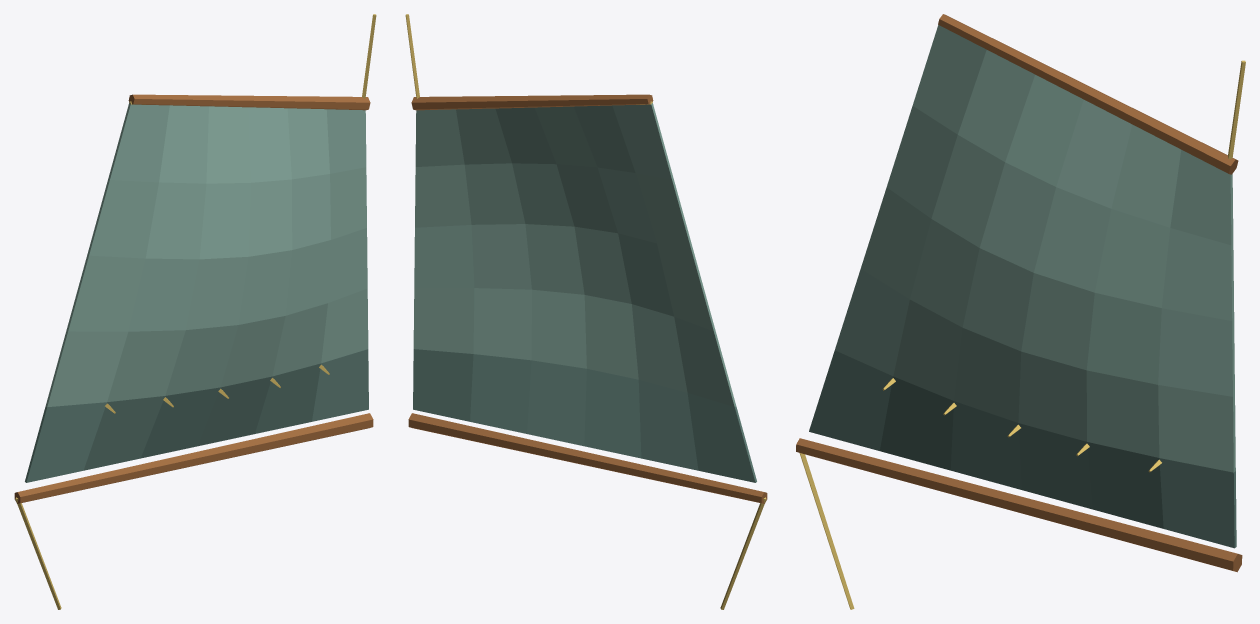
Rendered from ship_sail_raised.glb.
The picture shows the model from 3 angles, left to right: view 1: azimuth 30°, elevation 25°; view 2: azimuth 150°, elevation 25°; view 3: azimuth 330°, elevation 25°; orthographic projection. The views are drawn at different scales.
Visible parts, largest first — view 1: Sail_Canvas_Front, Sail_Canvas_Foot_Front, Sail_Boom.001, Sail_Gaff.001, Sail_Canvas_Back, Sail_Canvas_Foot_Back, Sail_Canvas_Rim_2, Sail_Sheet; view 2: Sail_Canvas_Back, Sail_Canvas_Foot_Back, Sail_Boom.001, Sail_Gaff.001, Sail_Canvas_Foot_Front, Sail_Canvas_Front, Sail_Canvas_Rim_2, Sail_Sheet; view 3: Sail_Canvas_Front, Sail_Canvas_Foot_Front, Sail_Boom.001, Sail_Gaff.001, Sail_Canvas_Back, Sail_Canvas_Foot_Back, Sail_Sheet, Sail_Canvas_Rim_1.
Boxes of the visible parts, bbox=[...] form: Sail_Canvas_Front: bbox=[47, 104, 368, 407]; Sail_Canvas_Foot_Front: bbox=[26, 349, 368, 482]; Sail_Boom.001: bbox=[14, 413, 373, 503]; Sail_Gaff.001: bbox=[128, 94, 370, 110]; Sail_Canvas_Back: bbox=[124, 123, 351, 333]; Sail_Canvas_Foot_Back: bbox=[280, 367, 354, 407]; Sail_Canvas_Rim_2: bbox=[45, 103, 130, 406]; Sail_Sheet: bbox=[15, 497, 61, 609]; Sail_Canvas_Back: bbox=[413, 104, 734, 406]; Sail_Canvas_Foot_Back: bbox=[413, 349, 755, 482]; Sail_Boom.001: bbox=[408, 413, 767, 503]; Sail_Gaff.001: bbox=[411, 94, 653, 110]; Sail_Canvas_Foot_Front: bbox=[428, 365, 509, 402]; Sail_Canvas_Front: bbox=[436, 122, 665, 327]; Sail_Canvas_Rim_2: bbox=[651, 103, 736, 406]; Sail_Sheet: bbox=[720, 497, 766, 609]; Sail_Canvas_Front: bbox=[835, 25, 1233, 472]; Sail_Canvas_Foot_Front: bbox=[809, 350, 1234, 548]; Sail_Boom.001: bbox=[796, 438, 1242, 572]; Sail_Gaff.001: bbox=[938, 14, 1238, 174]; Sail_Canvas_Back: bbox=[922, 51, 1207, 437]; Sail_Canvas_Foot_Back: bbox=[1116, 471, 1217, 523]; Sail_Sheet: bbox=[799, 453, 854, 609]; Sail_Canvas_Rim_1: bbox=[1230, 174, 1235, 472].
Size of the model in its own units: 4.43 by 6.07 by 0.5324.
